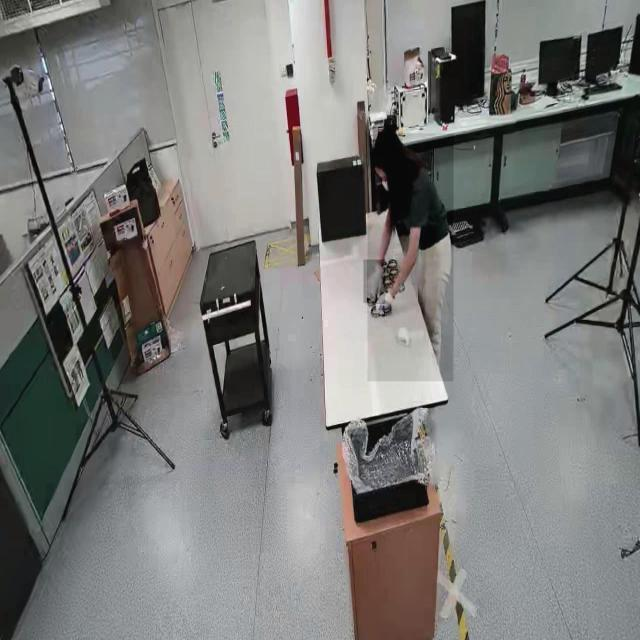hand_glove: (363, 260, 385, 304), (375, 282, 397, 318)
head_nohelmet: (373, 124, 397, 166)
person: (367, 134, 453, 382)
